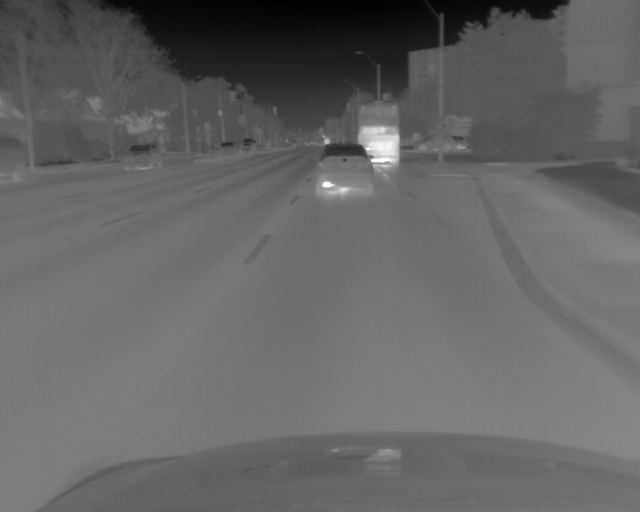car: (315, 142, 374, 196), (352, 102, 401, 167), (1, 135, 29, 181), (121, 142, 160, 173), (413, 135, 455, 152), (238, 137, 256, 153), (218, 140, 234, 154)
